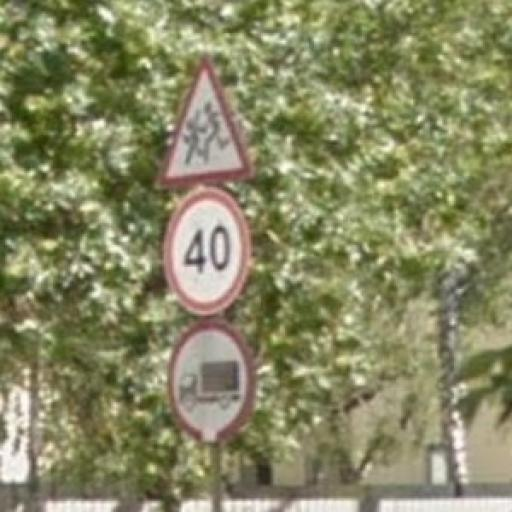traffic_sign: (153, 56, 253, 189), (163, 187, 252, 319), (168, 320, 257, 445)
